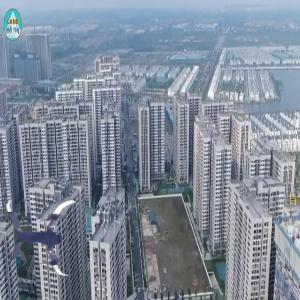drone: (4, 194, 93, 283)
